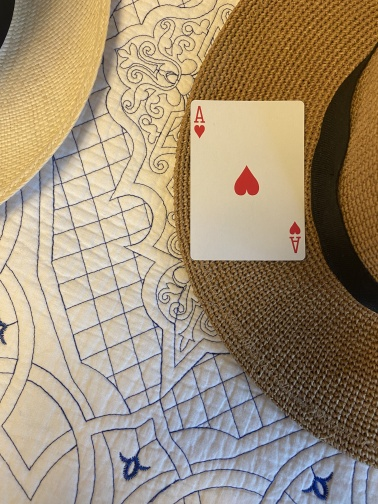ace: (188, 99, 306, 262)
